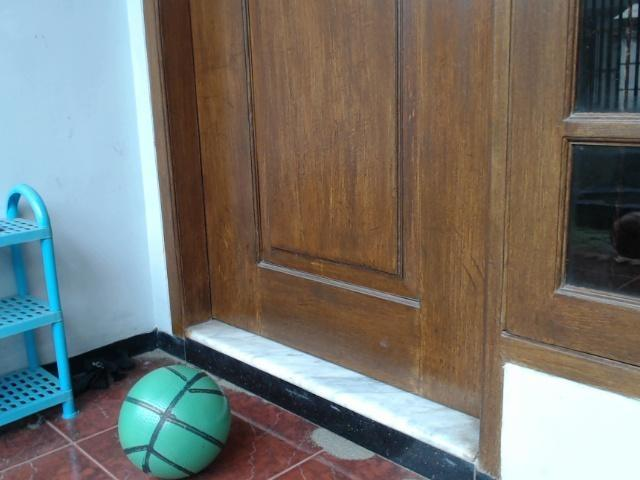Sports-Ball: (114, 362, 235, 480)
